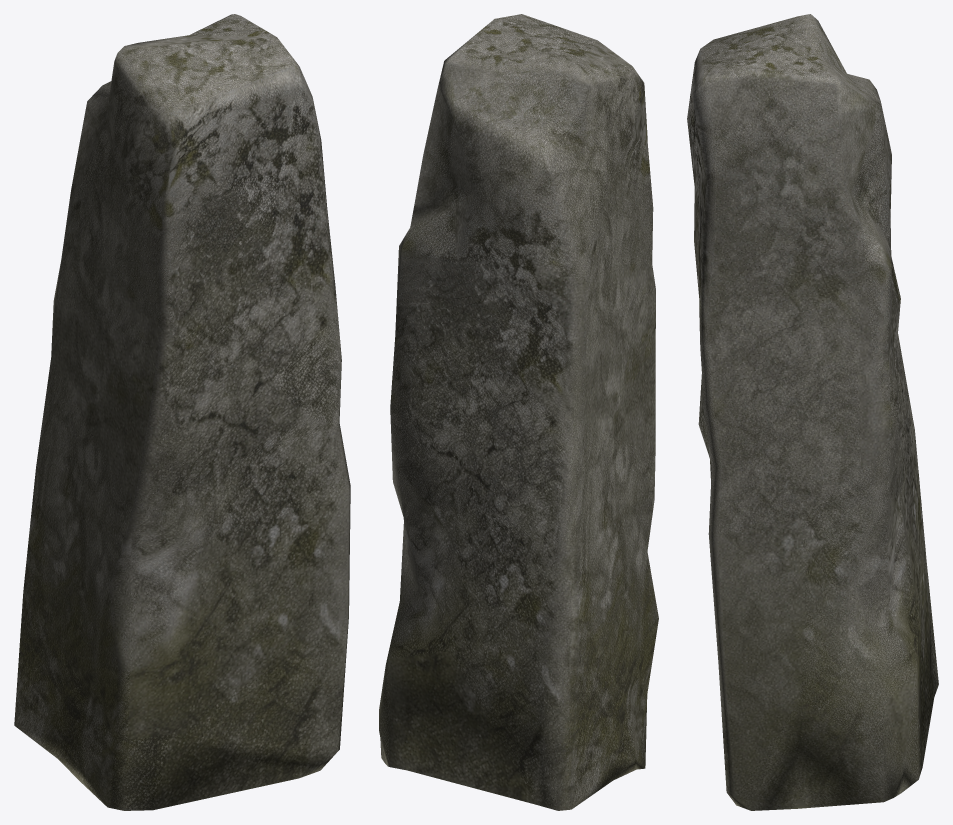
File: pillar_slender_monolith.glb
The picture shows the model from 3 angles, left to right: view 1: azimuth 30°, elevation 25°; view 2: azimuth 150°, elevation 25°; view 3: azimuth 270°, elevation 25°; orthographic projection. The views are drawn at different scales.
Bounding box in the file's own units: 0.3291 × 1 × 0.3174.
Materials: 1 (1 with a texture image).
